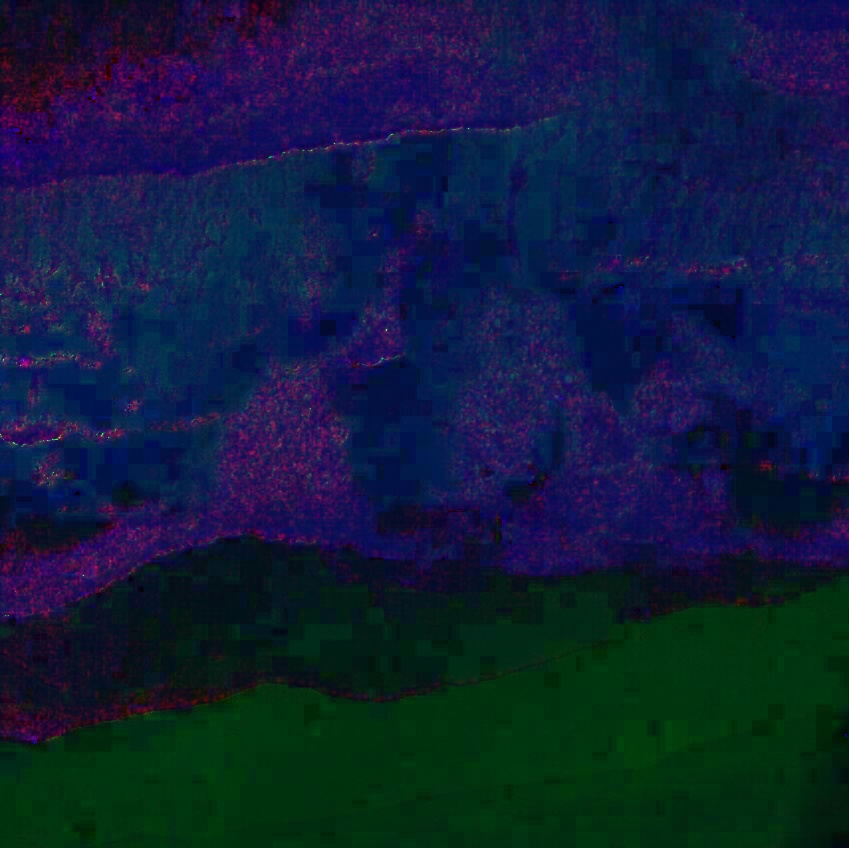rip_current: (315, 127, 534, 600)
